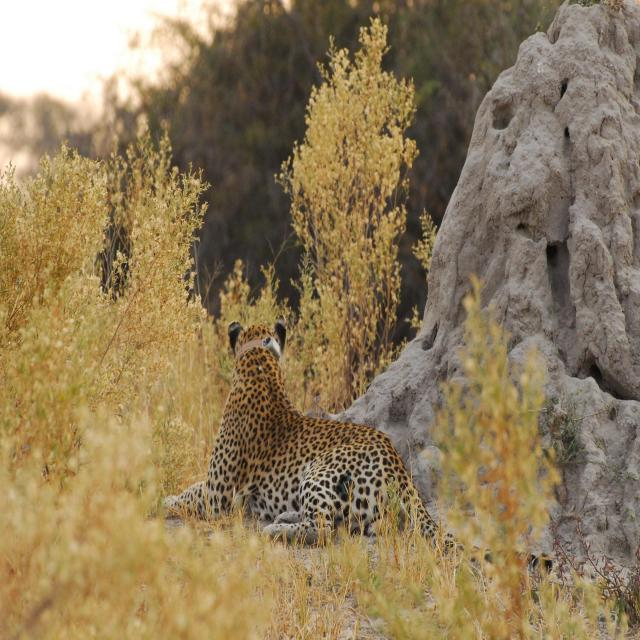Leopard: (140, 306, 573, 591)
